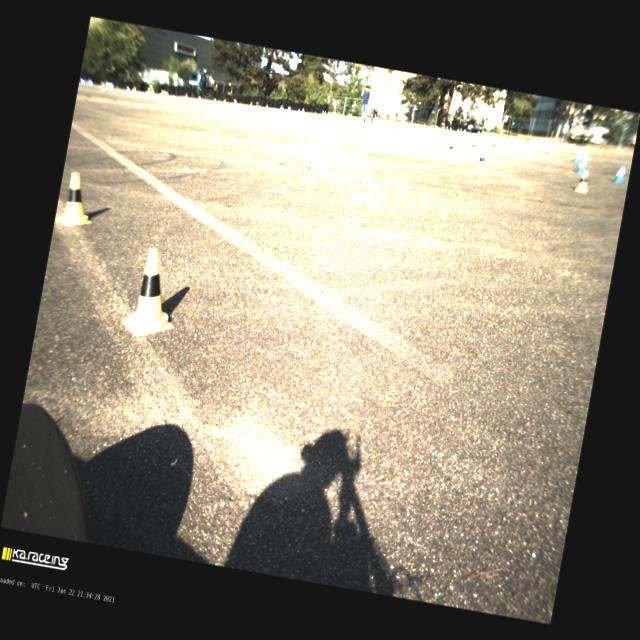blue_cone: (612, 162, 626, 182)
yellow_cone: (119, 245, 185, 342), (56, 170, 98, 229), (574, 169, 590, 193), (474, 150, 488, 171), (446, 140, 456, 156), (468, 138, 478, 154)
